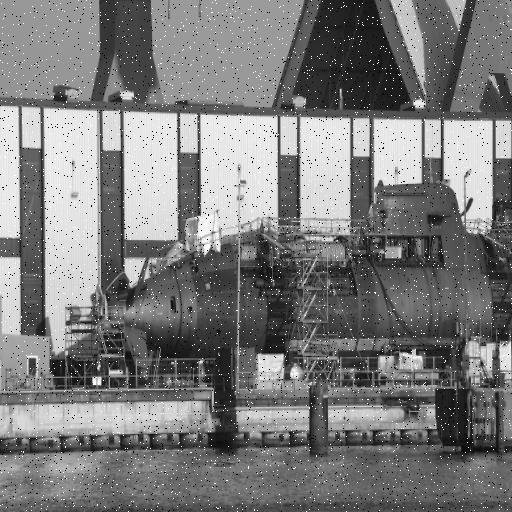submarine: (92, 185, 512, 349)
